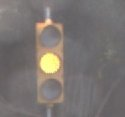Yellow: (33, 18, 66, 110)
